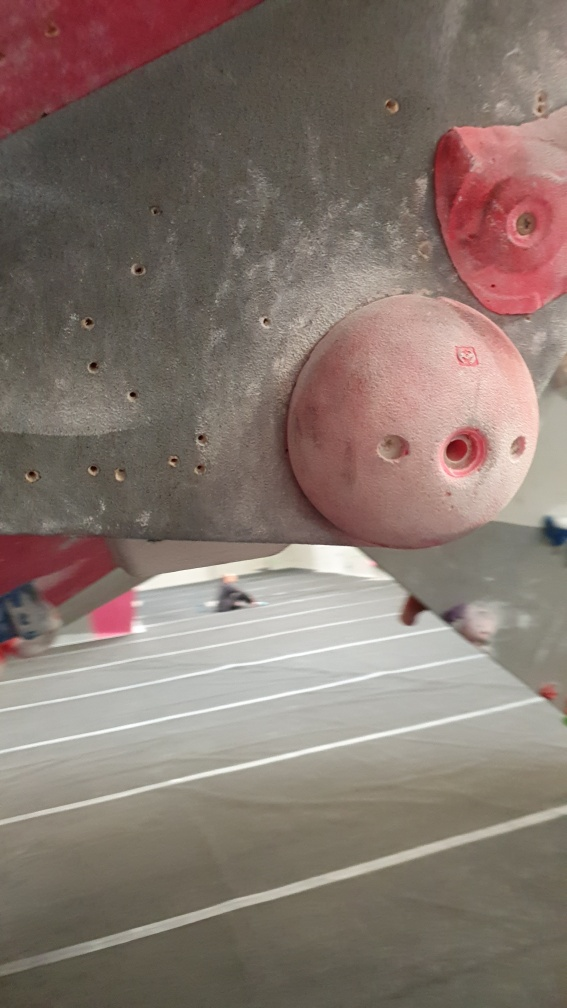Sloper: (282, 294, 542, 552)
